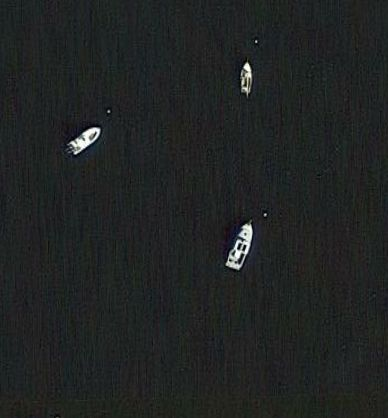boat: (221, 218, 256, 272), (66, 125, 103, 155), (237, 62, 257, 97)
